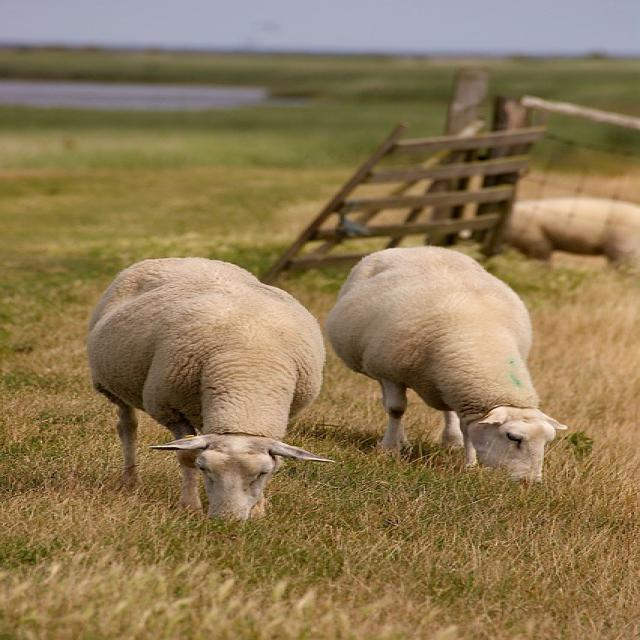goat: (88, 258, 331, 519), (327, 246, 567, 481), (505, 198, 640, 266)
